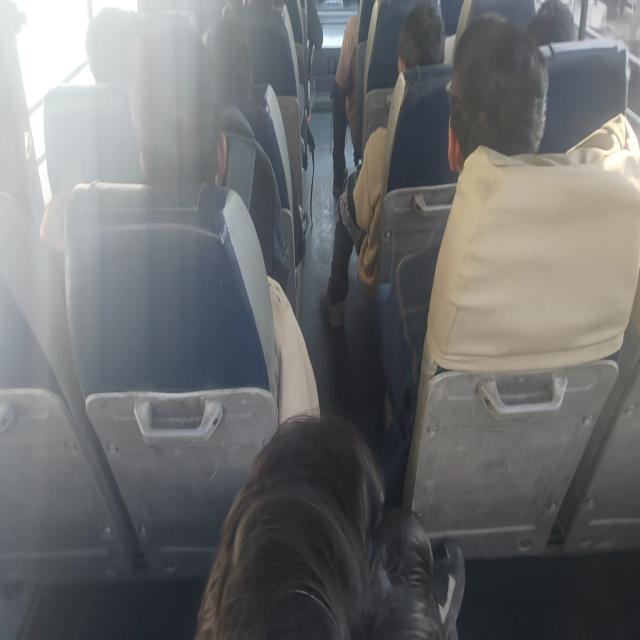person: (214, 394, 414, 640), (438, 41, 564, 160), (138, 53, 223, 184), (0, 65, 41, 202), (62, 26, 137, 78), (196, 16, 252, 81), (392, 5, 433, 79), (523, 0, 581, 47)
